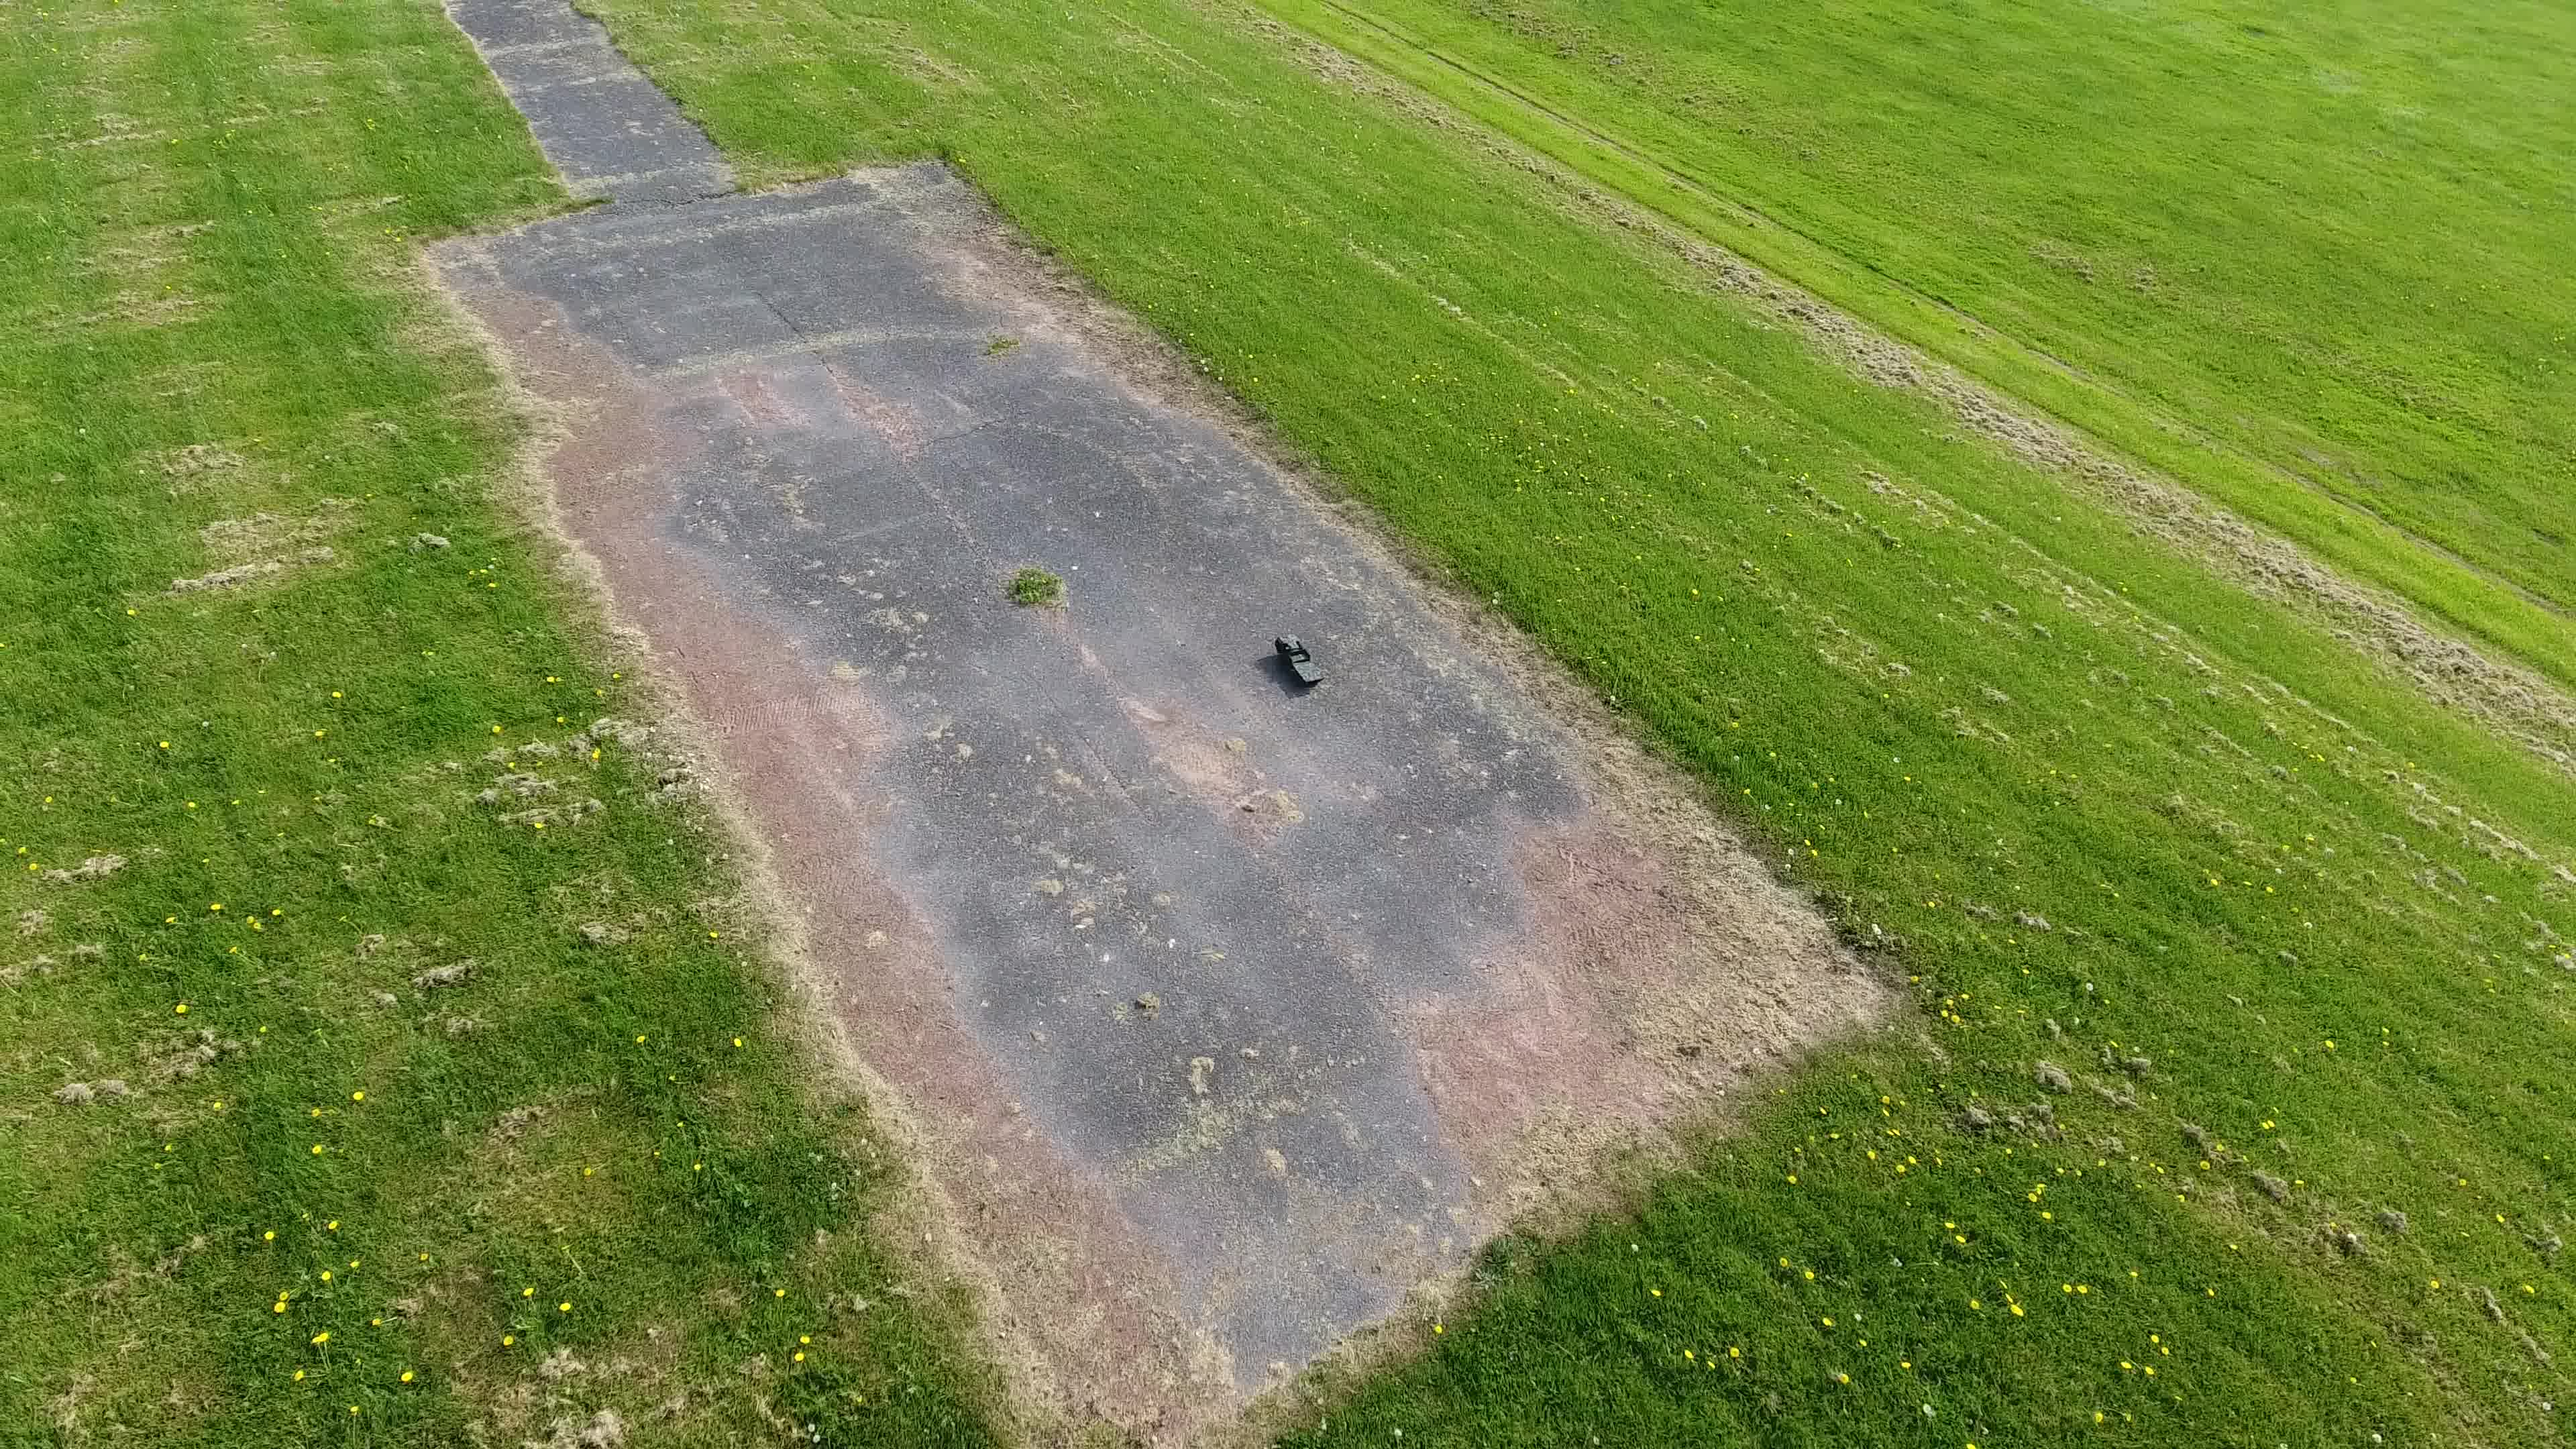transporter9: (1272, 632, 1327, 690)
